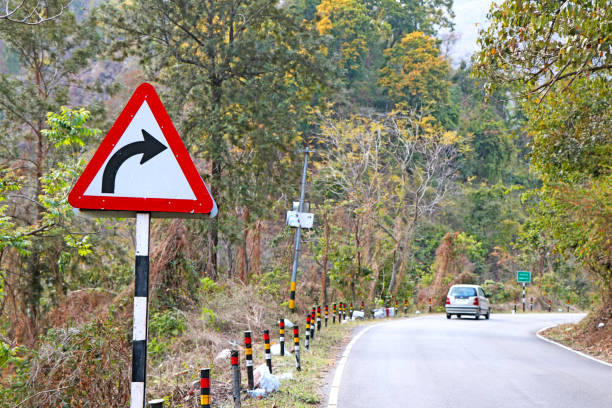car: (444, 285, 491, 321)
right turn: (67, 83, 213, 214)
